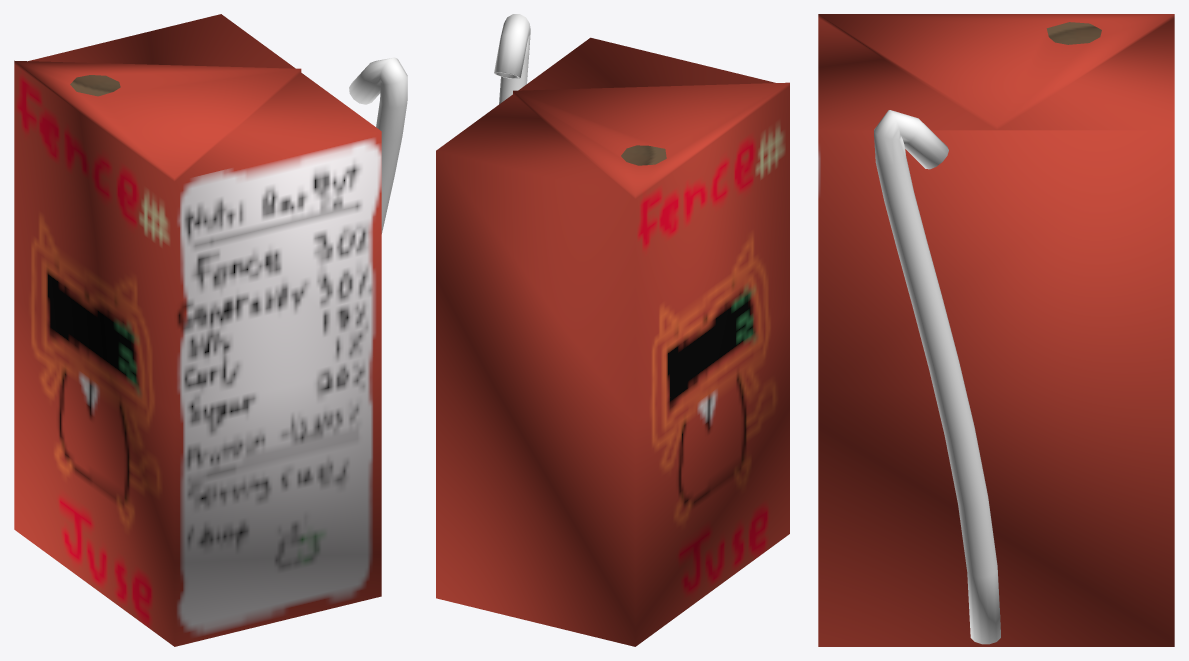
Rendered from item-fence-juse.glb.
3 views of the same model, side by side, from view 1: azimuth 30°, elevation 25°; view 2: azimuth 150°, elevation 25°; view 3: azimuth 270°, elevation 25° (orthographic). The views are drawn at different scales.
Bounding box in the file's own units: 0.0768 × 0.14 × 0.0808.
Materials: 3 (2 with a texture image).
